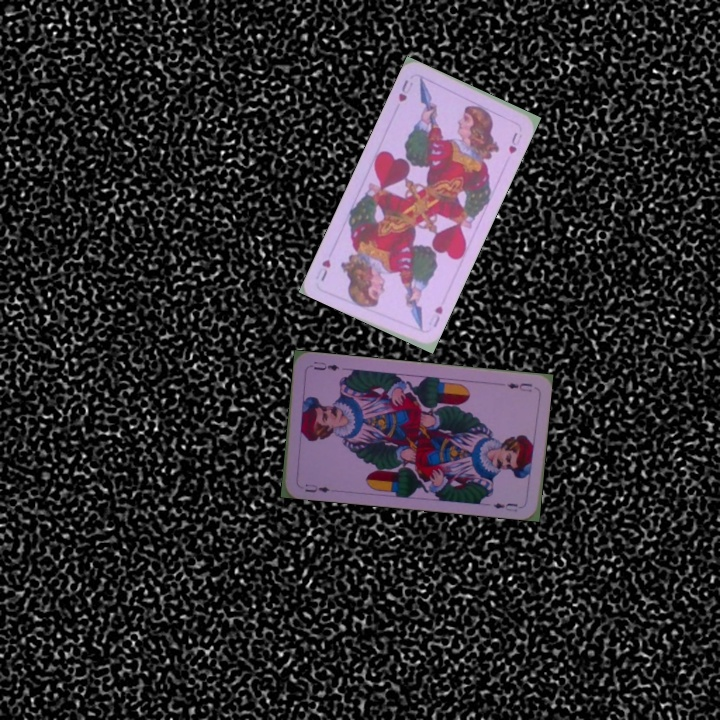EU: (503, 379, 535, 394), (301, 480, 332, 495)
HU: (394, 75, 416, 104), (429, 301, 446, 330)
